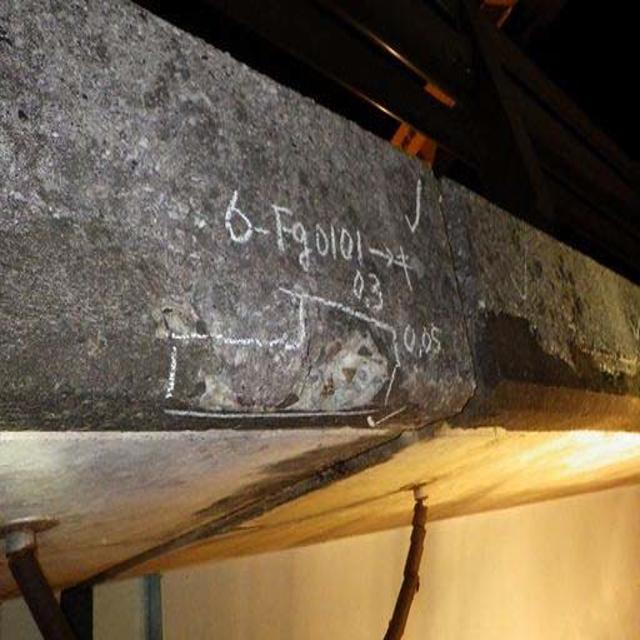spalling: (173, 282, 384, 418)
